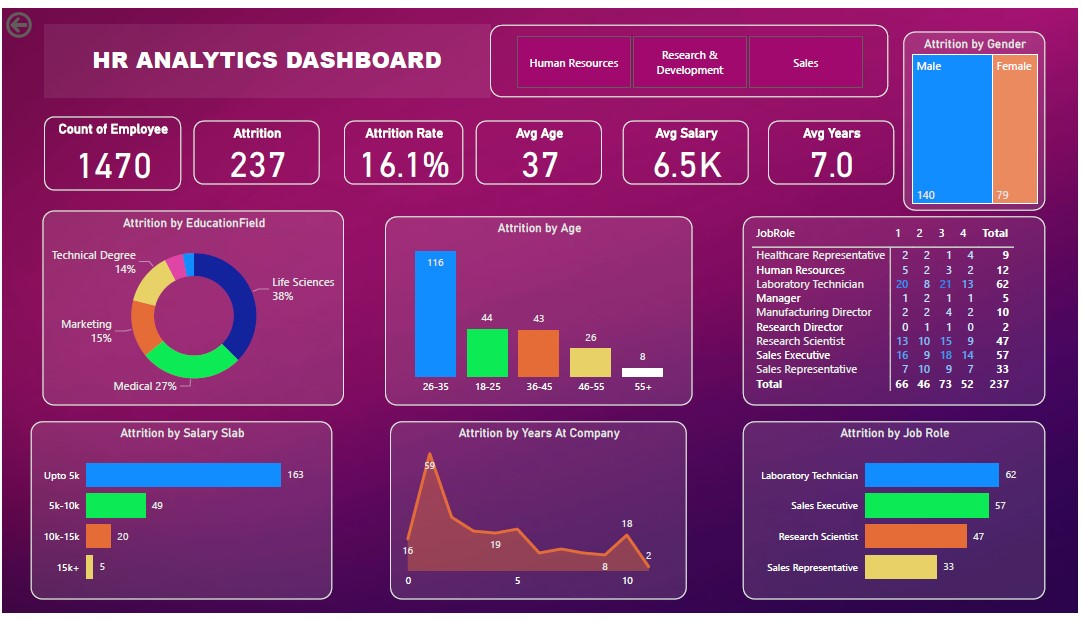

This screenshot's page, from the dashboard's own definition file:
{"tool":"powerbi","page":{"name":"Page 1","canvas":[1280,720],"ordinal":0},"visuals":[{"type":"card","title":"Count of Employee","fields":{"Values":["CountNonNull(HR_Analytics.EmpID)"]},"box":[50.4,129.3,162.9,87.3],"z":0},{"type":"card","title":"Attrition","fields":{"Values":["Sum(HR_Analytics.AttritionCount)"]},"box":[228.5,134.4,149.5,75.6],"z":1000},{"type":"card","title":"Avg Age","fields":{"Values":["Avg(HR_Analytics.Age)"]},"box":[564.4,134.4,149.5,75.6],"z":2000},{"type":"actionButton","box":[0,0,100,40],"z":3000},{"type":"card","title":"Attrition Rate","fields":{"Values":["HR_Analytics.AttirationRate"]},"box":[406.5,134.4,142.8,75.6],"z":4000},{"type":"card","title":"Avg Years","fields":{"Values":["Avg(HR_Analytics.YearsAtCompany)"]},"box":[912.1,134.4,149.5,75.6],"z":5000},{"type":"card","title":"Avg Salary","fields":{"Values":["Avg(HR_Analytics.MonthlyIncome)"]},"box":[739.1,134.4,149.5,75.6],"z":6000},{"type":"donutChart","title":" Attrition by EducationField","fields":{"Category":["HR_Analytics.EducationField"],"Y":["Sum(HR_Analytics.AttritionCount)"]},"box":[48.2,240.9,358.6,232.4],"z":6001},{"type":"columnChart","title":" Attrition by Age","fields":{"Category":["HR_Analytics.AgeGroup"],"Y":["Sum(HR_Analytics.AttritionCount)"]},"box":[456.4,248,365.7,225.4],"z":6002},{"type":"pivotTable","fields":{"Rows":["HR_Analytics.JobRole"],"Columns":["HR_Analytics.JobSatisfaction"],"Values":["Sum(HR_Analytics.AttritionCount)"]},"box":[881.6,248,360,225.4],"z":6003},{"type":"barChart","title":" Attrition by Salary Slab","fields":{"Category":["HR_Analytics.SalarySlab"],"Y":["Sum(HR_Analytics.AttritionCount)"]},"box":[34,491.8,358.6,212.6],"z":6004},{"type":"barChart","title":" Attrition by Job Role","fields":{"Category":["HR_Analytics.JobRole"],"Y":["Sum(HR_Analytics.AttritionCount)"]},"box":[881.6,491.8,360,212.6],"z":6005},{"type":"areaChart","title":" Attrition by Years At Company","fields":{"Category":["HR_Analytics.YearsAtCompany"],"Y":["Sum(HR_Analytics.AttritionCount)"]},"box":[462,491.8,352.9,212.6],"z":6006},{"type":"treemap","title":" Attrition by Gender","fields":{"Group":["HR_Analytics.Gender"],"Values":["Sum(HR_Analytics.AttritionCount)"]},"box":[1072.9,28.3,168.7,212.6],"z":6007},{"type":"slicer","fields":{"Values":["HR_Analytics.Department"]},"box":[581.2,20.2,473.7,85.7],"z":6008},{"type":"textbox","box":[50.4,20.2,530.8,85.7],"z":6009}]}

Visuals, with their boxes in screenshot pixels (x1, y1, x2, y2), scaled from the page's 1280x720 canvas onto the 1082x621 screenshot:
"Count of Employee" card: x1=43 y1=112 x2=180 y2=187
"Attrition" card: x1=193 y1=116 x2=320 y2=181
"Avg Age" card: x1=477 y1=116 x2=603 y2=181
actionButton: x1=0 y1=0 x2=85 y2=34
"Attrition Rate" card: x1=344 y1=116 x2=464 y2=181
"Avg Years" card: x1=771 y1=116 x2=897 y2=181
"Avg Salary" card: x1=625 y1=116 x2=751 y2=181
" Attrition by EducationField" donutChart: x1=41 y1=208 x2=344 y2=408
" Attrition by Age" columnChart: x1=386 y1=214 x2=695 y2=408
pivotTable - HR_Analytics.JobRole x HR_Analytics.JobSatisfaction: x1=745 y1=214 x2=1050 y2=408
" Attrition by Salary Slab" barChart: x1=29 y1=424 x2=332 y2=608
" Attrition by Job Role" barChart: x1=745 y1=424 x2=1050 y2=608
" Attrition by Years At Company" areaChart: x1=391 y1=424 x2=689 y2=608
" Attrition by Gender" treemap: x1=907 y1=24 x2=1050 y2=208
slicer - HR_Analytics.Department: x1=491 y1=17 x2=892 y2=91
textbox: x1=43 y1=17 x2=491 y2=91
